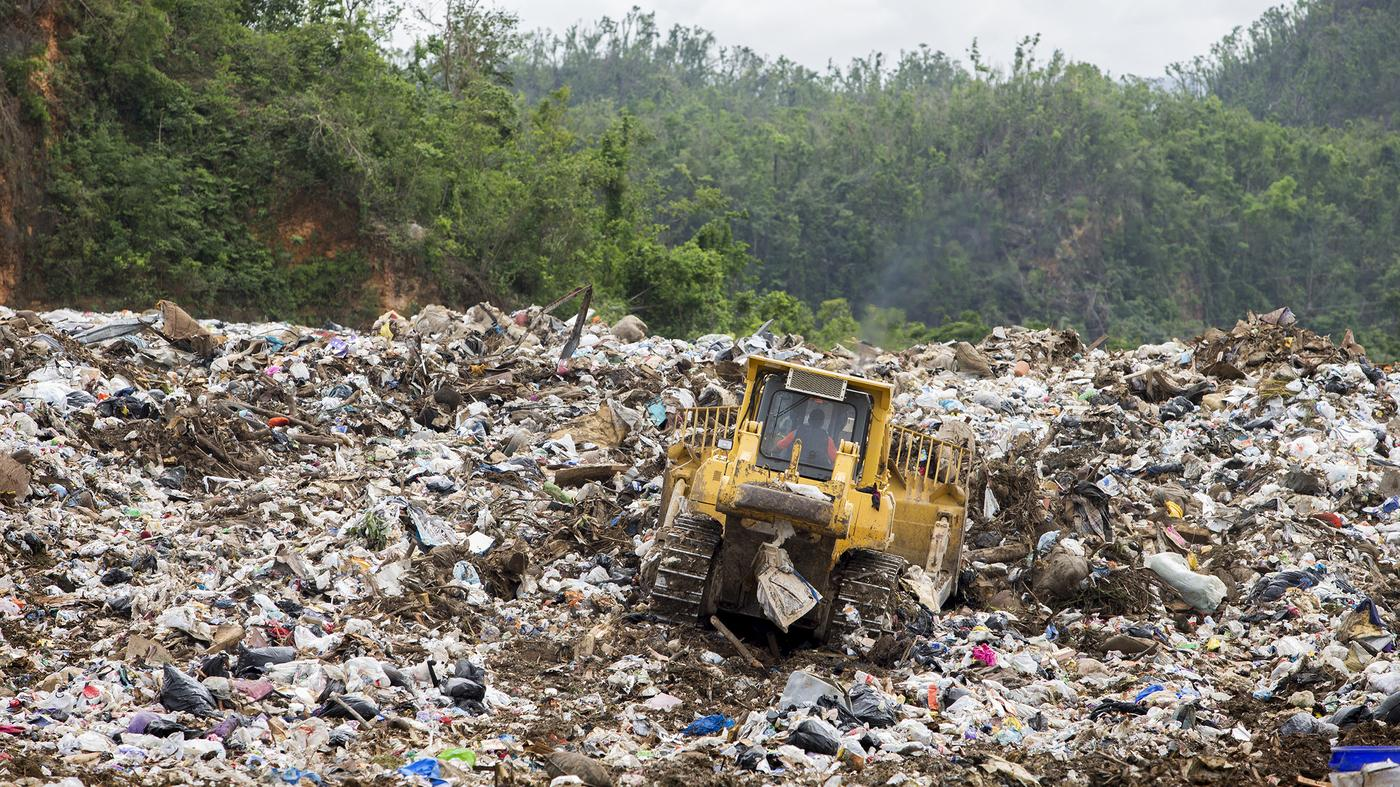garbage: (0, 274, 1400, 787)
